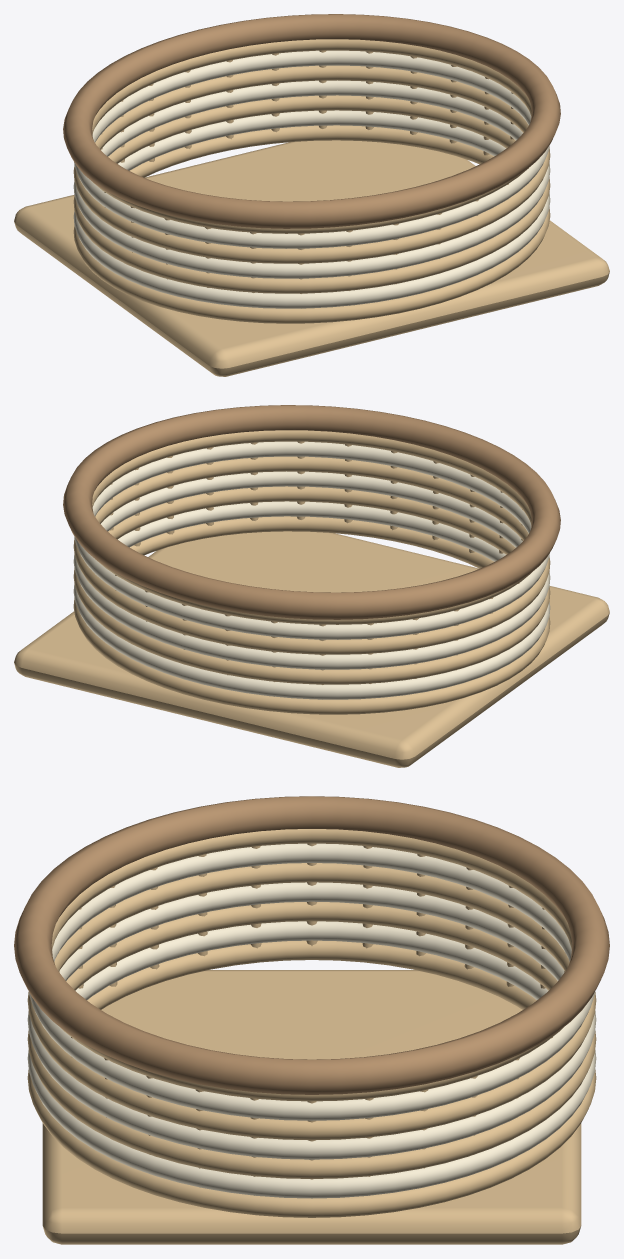
File: Basket.fbx
3 views of the same model, one above another, from view 1: azimuth 30°, elevation 25°; view 2: azimuth 150°, elevation 25°; view 3: azimuth 270°, elevation 25° (orthographic). The views are drawn at different scales.
Visible parts, largest first — view 1: Basket; view 2: Basket; view 3: Basket.
Part boxes in pixels (<box>): Basket: <box>14,14,609,376</box>; Basket: <box>14,405,609,767</box>; Basket: <box>14,796,609,1244</box>.
Size of the model in its own units: 102 by 33.4 by 91.8.
